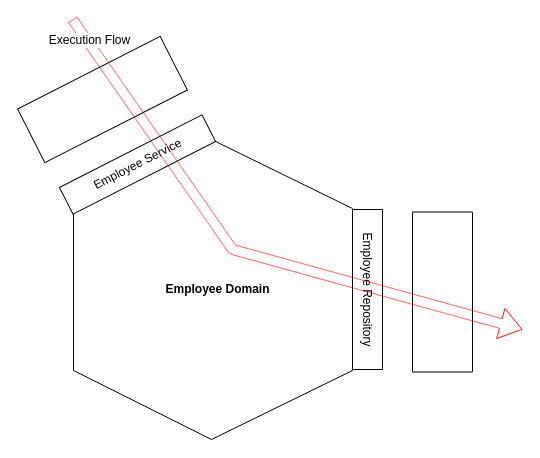
This 540x458 diagram has some shape labels left out. The shapes that lost their labels are listed below. From the top down, each one's centre as x and y in pixels, then its label:
(102,99): Employee REST API
(442,291): Employee In Memory DB
